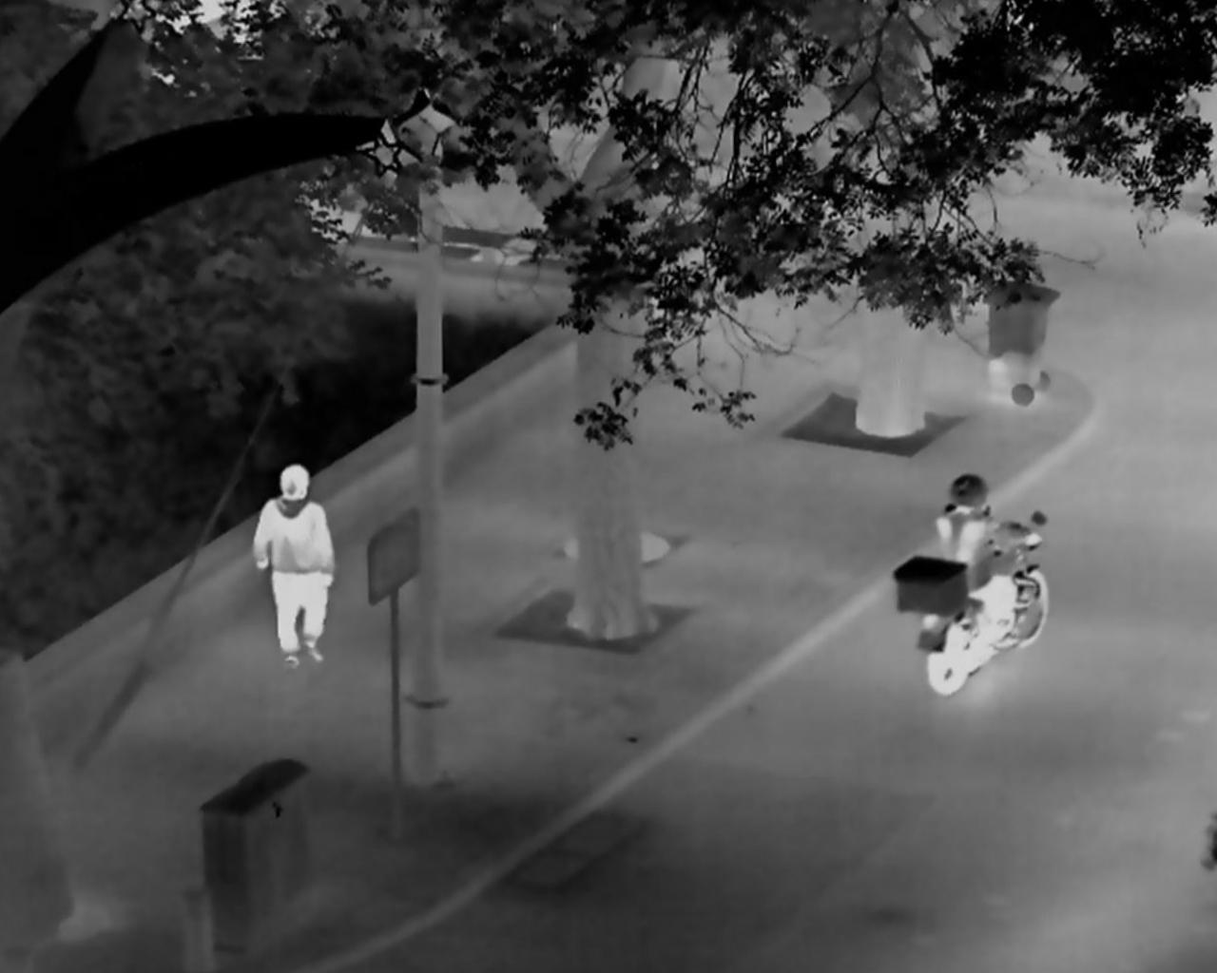person: (932, 472, 1043, 644), (252, 462, 336, 669)
